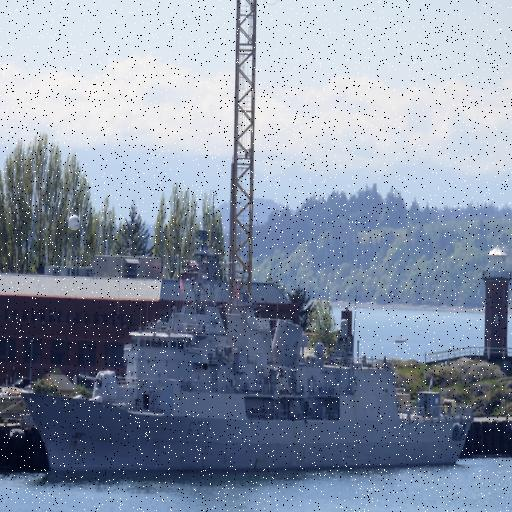Fragata: (26, 231, 478, 485)
